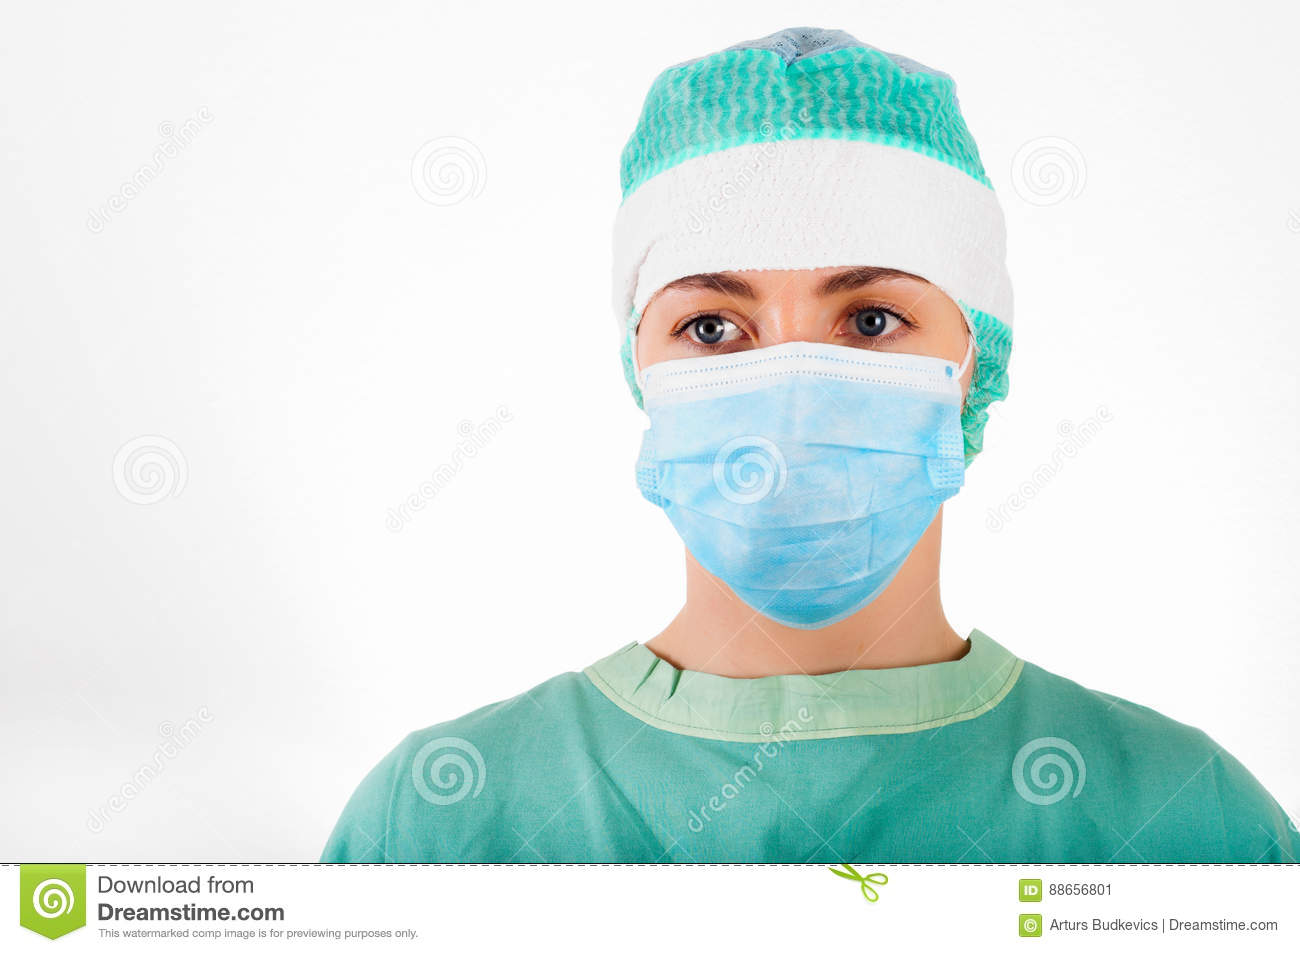mask: (598, 340, 973, 625)
